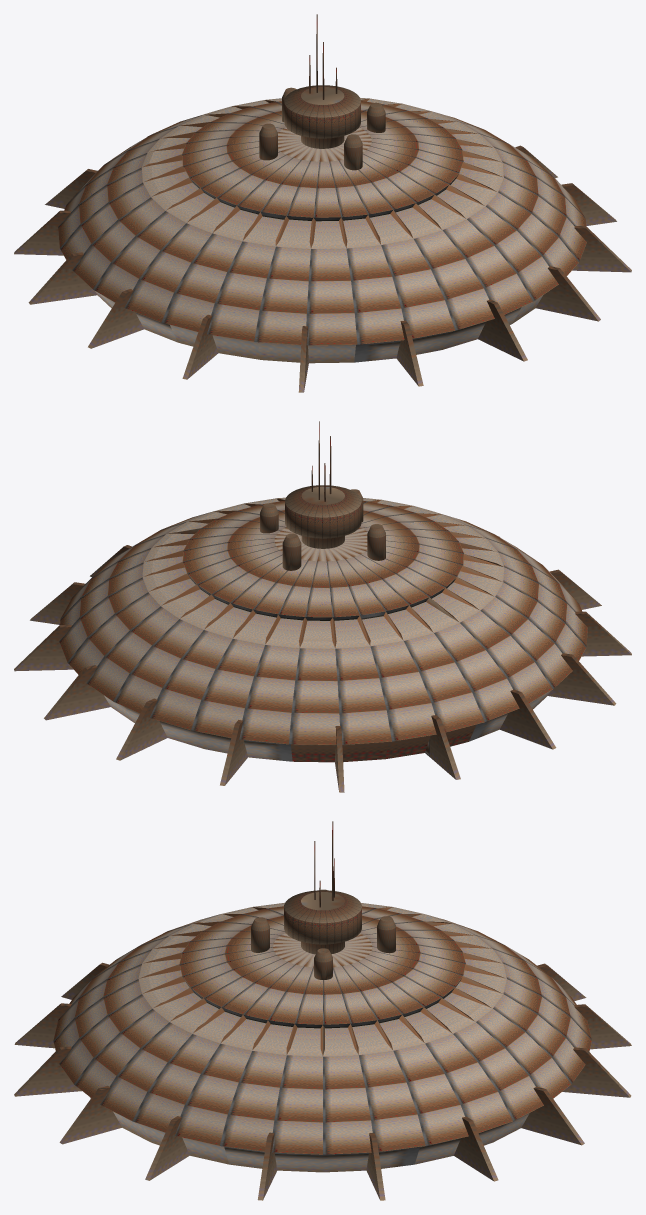
3 views of the same model, one above another, from view 1: azimuth 30°, elevation 25°; view 2: azimuth 150°, elevation 25°; view 3: azimuth 270°, elevation 25° (orthographic).
Parts seen in each view (by area): view 1: A1; view 2: A1; view 3: A1.
Part boxes in pixels (bbox=[...]): A1: bbox=[14, 14, 631, 392]; A1: bbox=[14, 421, 631, 792]; A1: bbox=[14, 821, 631, 1200].
Bounding box in the file's own units: 1035 × 459 × 1035.
